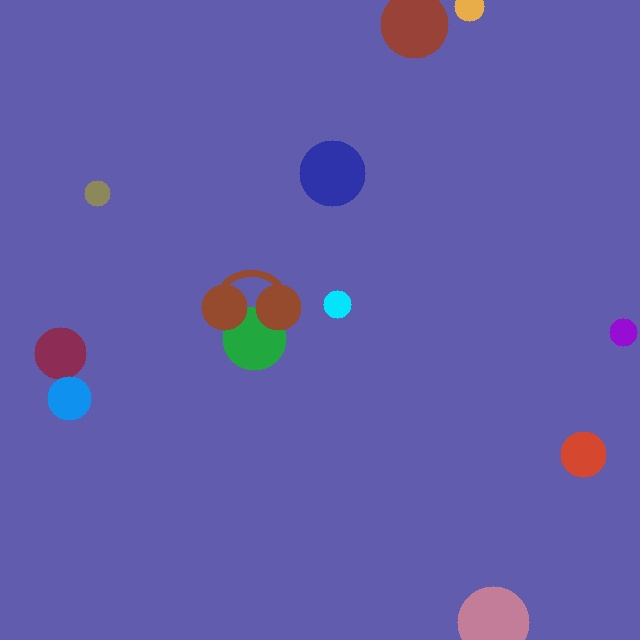over_ear: (197, 263, 305, 334)
